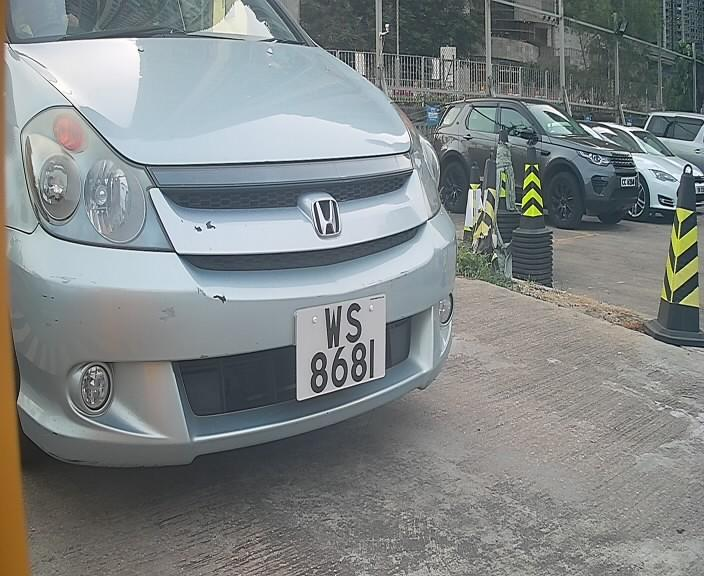License Plate: (290, 291, 400, 412)
